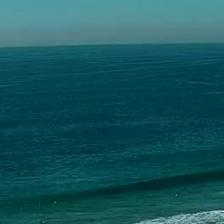surfer: (173, 192, 179, 197), (16, 206, 24, 209), (52, 201, 58, 205), (188, 191, 194, 194), (36, 204, 40, 208), (39, 221, 47, 223), (40, 203, 43, 207)
